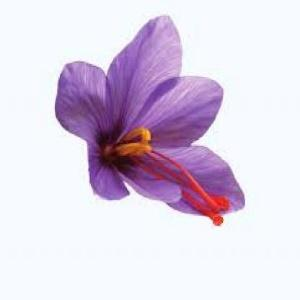Saffron: (52, 14, 250, 216)
